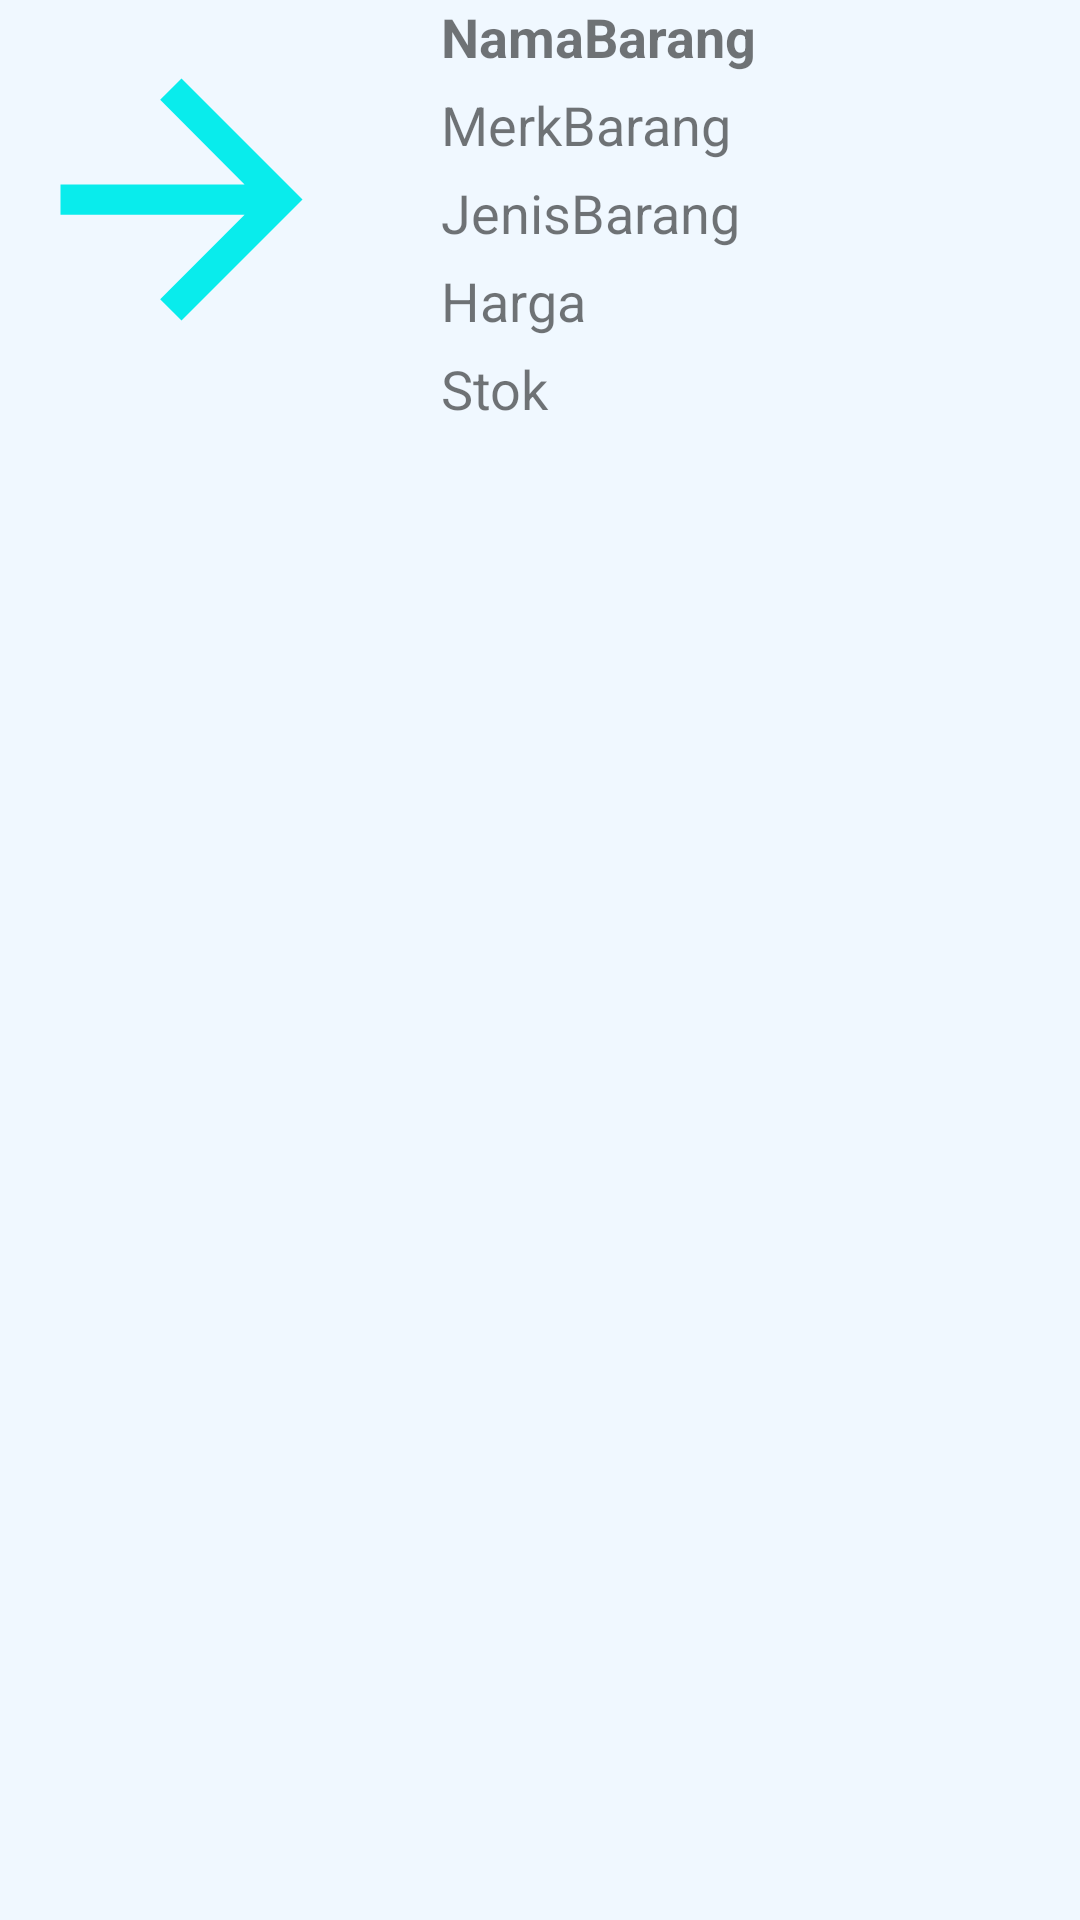

Screen size 1080×1920. Icon name, then its box in pixels as (x1, y1, x2, y2):
arrow forward: (60, 78, 303, 321)
